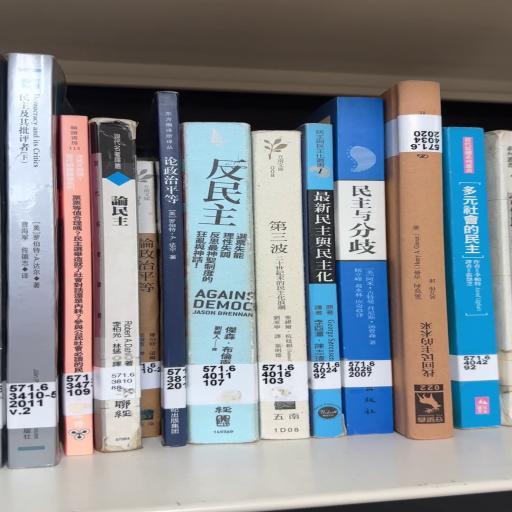book: (310, 97, 393, 435), (181, 122, 259, 443), (252, 131, 309, 440), (443, 127, 500, 429), (90, 118, 141, 452), (299, 122, 344, 437)
reverse: (382, 81, 453, 440)
